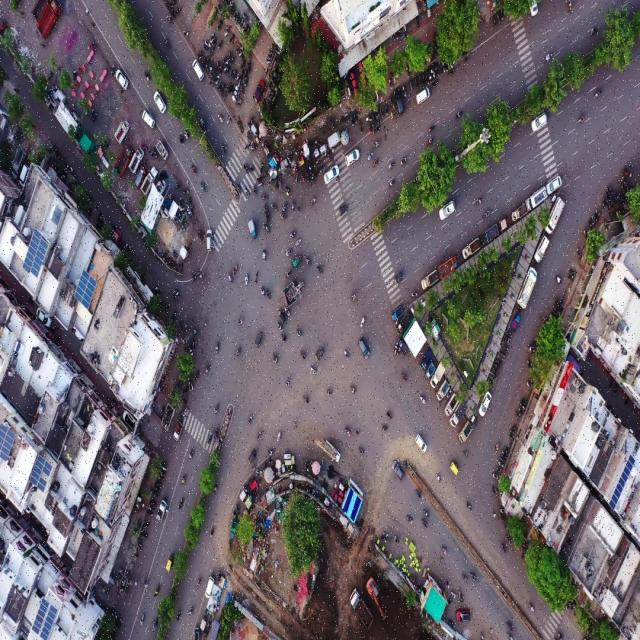3W: (246, 448, 259, 466), (164, 551, 174, 574), (450, 456, 460, 479), (393, 269, 405, 287), (314, 344, 325, 363), (253, 327, 263, 347), (336, 201, 349, 216), (291, 254, 303, 270), (278, 308, 284, 324)
Cars: (437, 202, 458, 224), (188, 58, 206, 83), (530, 113, 550, 134), (140, 109, 158, 132), (534, 237, 548, 264), (154, 87, 167, 115), (390, 456, 405, 480), (478, 391, 492, 416), (414, 431, 428, 455), (203, 227, 215, 255), (344, 147, 359, 167), (547, 175, 562, 194), (394, 88, 404, 116), (359, 335, 370, 360), (416, 87, 430, 106), (253, 80, 265, 102), (115, 69, 128, 89), (456, 608, 470, 624), (204, 575, 214, 597)
LCV: (544, 196, 566, 236), (517, 268, 537, 308), (528, 185, 546, 212), (450, 401, 468, 428), (113, 115, 129, 144), (439, 254, 458, 278), (430, 360, 446, 388), (141, 167, 157, 194), (421, 268, 439, 290), (512, 200, 528, 224), (324, 439, 340, 462), (444, 392, 458, 418), (130, 146, 143, 172), (463, 238, 479, 259), (156, 139, 171, 161), (458, 421, 472, 444), (157, 499, 169, 524), (247, 217, 258, 243), (397, 312, 410, 333), (420, 350, 433, 370), (327, 131, 341, 149), (173, 420, 183, 440), (511, 314, 521, 333), (391, 305, 402, 322), (397, 338, 408, 354)
M2W: (324, 163, 339, 185), (187, 446, 195, 462), (152, 614, 160, 630), (528, 600, 536, 615), (544, 51, 554, 63), (414, 488, 423, 501), (577, 113, 586, 126), (138, 612, 145, 628), (588, 26, 598, 37), (189, 164, 198, 176), (212, 402, 219, 417), (448, 617, 456, 630), (481, 210, 491, 220), (371, 139, 380, 150), (462, 572, 469, 586), (469, 568, 476, 582), (493, 442, 500, 456), (177, 496, 184, 510), (195, 576, 202, 590), (153, 584, 160, 598), (576, 246, 583, 260), (422, 507, 430, 519), (506, 620, 514, 632), (366, 150, 374, 162), (299, 350, 307, 362), (275, 430, 283, 442), (358, 316, 366, 328), (554, 273, 562, 285), (457, 590, 464, 603), (243, 273, 250, 286), (344, 425, 351, 438), (213, 341, 220, 354), (217, 114, 224, 127), (425, 136, 434, 146), (288, 230, 297, 240), (315, 265, 324, 275), (284, 248, 293, 258), (427, 123, 435, 134), (406, 513, 413, 525), (421, 518, 428, 530), (441, 546, 448, 558), (499, 542, 506, 554), (296, 328, 303, 340), (310, 366, 317, 378), (343, 349, 349, 363), (206, 432, 212, 446), (180, 472, 186, 486), (212, 482, 218, 496), (188, 604, 194, 618), (174, 285, 180, 299), (183, 130, 190, 142), (284, 186, 291, 198), (386, 410, 393, 422), (223, 26, 230, 38), (380, 424, 389, 433), (475, 197, 483, 207), (454, 109, 462, 119), (236, 317, 244, 327), (284, 378, 292, 388), (594, 88, 602, 98), (213, 427, 219, 440), (209, 527, 215, 540), (204, 361, 210, 374), (220, 142, 226, 155), (290, 199, 296, 212), (164, 36, 170, 49), (492, 15, 498, 28), (478, 233, 484, 246), (400, 155, 407, 166), (389, 177, 396, 188), (419, 394, 426, 405), (143, 71, 150, 82), (249, 413, 254, 428), (387, 161, 395, 170), (227, 272, 233, 284), (358, 444, 364, 456), (264, 222, 270, 234), (235, 183, 241, 195), (236, 346, 242, 358), (436, 472, 442, 484), (411, 290, 419, 299), (137, 541, 143, 553), (202, 43, 210, 52), (261, 248, 266, 262), (271, 353, 278, 363), (349, 384, 356, 394), (176, 609, 181, 623), (281, 202, 288, 212), (244, 142, 251, 152), (431, 79, 438, 89), (514, 410, 521, 420), (552, 296, 559, 306), (451, 590, 457, 601), (305, 256, 311, 267), (266, 288, 272, 299), (256, 430, 262, 441), (178, 134, 184, 145), (200, 117, 206, 128), (252, 186, 258, 197), (238, 46, 244, 57), (217, 20, 223, 31), (220, 82, 226, 93), (248, 115, 254, 126), (358, 122, 363, 135), (200, 180, 205, 193), (262, 202, 267, 215), (384, 531, 389, 544), (353, 111, 358, 124), (496, 12, 501, 25), (498, 350, 506, 358), (465, 502, 472, 511), (276, 323, 283, 332), (260, 193, 267, 202), (280, 212, 287, 221), (400, 373, 407, 382), (248, 475, 255, 484), (295, 238, 301, 248), (286, 269, 292, 279), (284, 307, 290, 317), (243, 187, 249, 197), (242, 164, 248, 174), (350, 293, 356, 303), (388, 78, 393, 90), (402, 86, 407, 98), (409, 80, 414, 92), (380, 530, 386, 540), (153, 146, 158, 158), (209, 32, 214, 44), (197, 50, 203, 60), (376, 120, 380, 134), (302, 396, 310, 403), (248, 165, 255, 173), (371, 122, 375, 136), (501, 345, 509, 352), (566, 274, 574, 281), (152, 490, 159, 498), (155, 481, 162, 489), (233, 263, 238, 274), (260, 162, 265, 173), (310, 197, 316, 206), (280, 333, 286, 342), (268, 448, 274, 457), (271, 202, 277, 211), (246, 132, 252, 141), (526, 380, 532, 389), (217, 41, 223, 50), (209, 46, 215, 55), (218, 65, 224, 74), (266, 209, 270, 222), (389, 95, 393, 108), (240, 84, 244, 97), (306, 170, 310, 183), (229, 34, 234, 44), (227, 50, 232, 60), (230, 56, 235, 66), (202, 56, 207, 66), (205, 58, 210, 68), (225, 65, 230, 75), (195, 370, 200, 380), (326, 389, 333, 396), (492, 474, 499, 481), (448, 70, 455, 77), (141, 532, 148, 539), (149, 500, 156, 507), (220, 57, 227, 64), (261, 286, 265, 298), (384, 104, 388, 116), (148, 504, 154, 512), (148, 150, 154, 158), (247, 61, 251, 73), (319, 161, 323, 173), (241, 59, 246, 68), (217, 81, 222, 90), (327, 152, 332, 161), (110, 64, 114, 75), (418, 75, 422, 86), (216, 76, 220, 87), (264, 171, 268, 182), (301, 173, 305, 184), (372, 160, 378, 167), (350, 114, 353, 128), (495, 358, 501, 365), (520, 403, 526, 410), (552, 310, 559, 316), (570, 269, 576, 276), (372, 113, 376, 123), (435, 66, 439, 76), (233, 68, 237, 78), (213, 36, 217, 46), (216, 60, 220, 70), (422, 73, 425, 86), (426, 72, 429, 85), (380, 106, 383, 118), (377, 106, 380, 118), (414, 76, 417, 88), (492, 368, 498, 374), (143, 524, 149, 530), (244, 77, 248, 86), (239, 71, 243, 80), (237, 76, 240, 88), (204, 40, 210, 46), (275, 178, 278, 190), (497, 466, 502, 473), (501, 450, 508, 455), (442, 61, 445, 72), (499, 457, 505, 462), (244, 68, 247, 78), (498, 462, 503, 467)
Truck: (348, 584, 373, 630), (36, 0, 61, 41), (115, 143, 132, 178)
